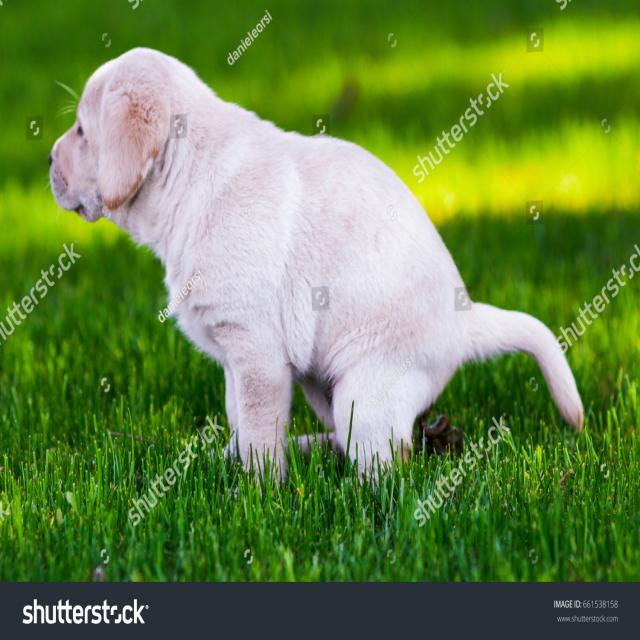Dogpoop: (44, 43, 588, 480)
